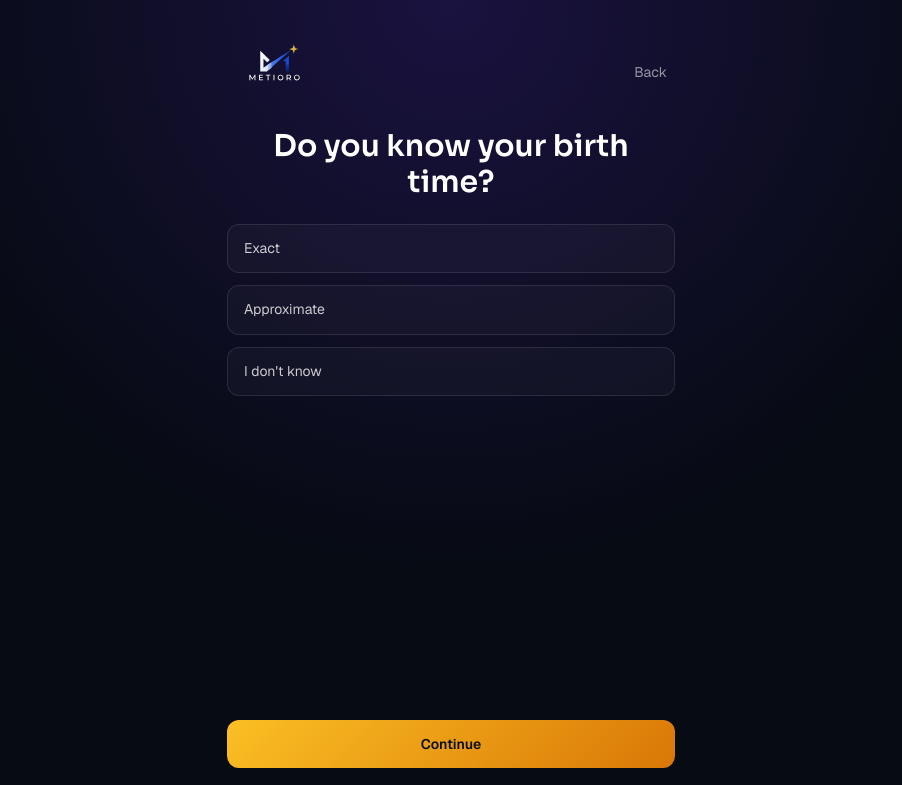
it: BirthTimeScreen › shows time entry and tolerance note for Approximate
Click the radio button labelled "Approximate" at (284, 309), box top-left (227, 285), bottom-right (675, 335)
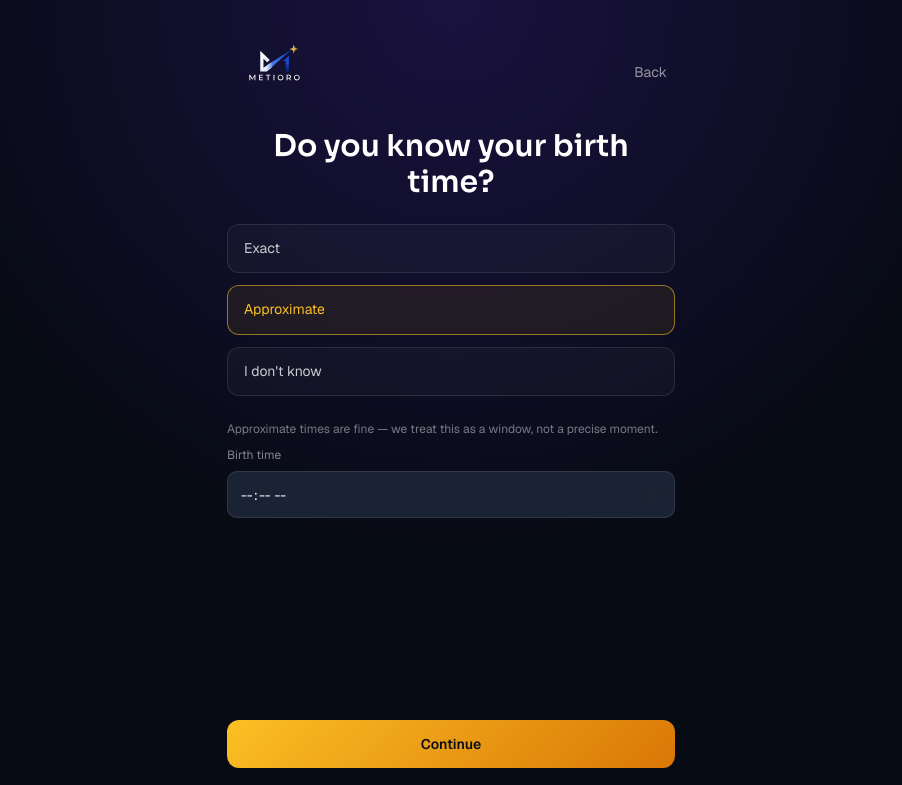
expect the text "Approximate times are fine — we treat this as a window, not a precise moment." is shown: met, box top-left (227, 420), bottom-right (675, 439)
expect the time field labelled "Birth time" is shown: met, box top-left (227, 471), bottom-right (675, 518)
